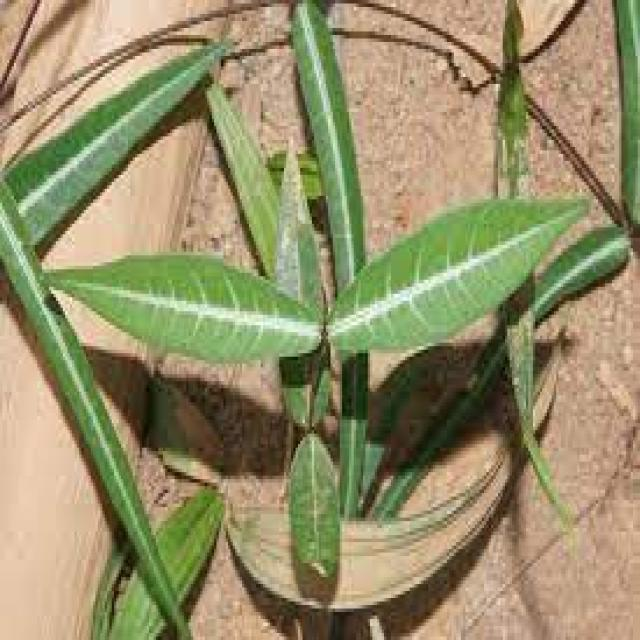Anantamul: (29, 160, 555, 636)
